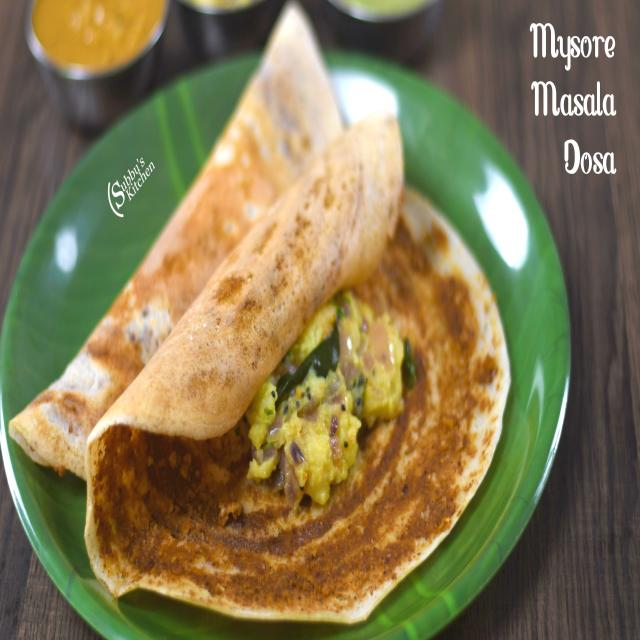masala_dosa: (173, 37, 511, 605)
